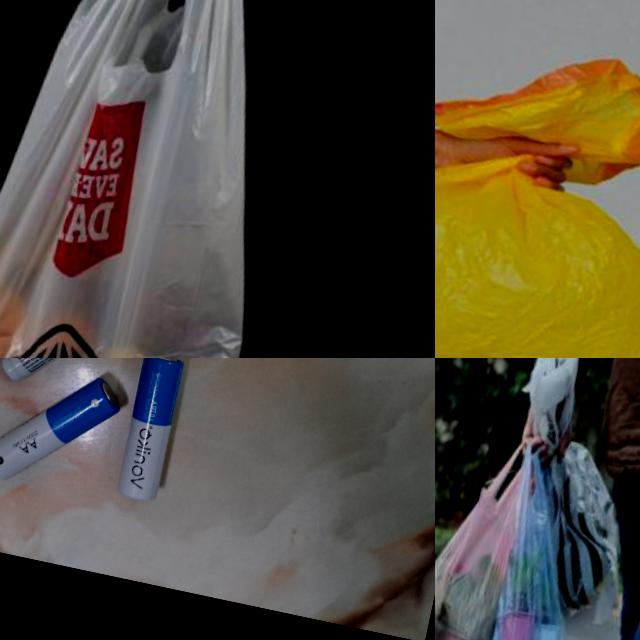bateria: (0, 358, 126, 500), (113, 358, 184, 502), (0, 358, 119, 398)
sacola plástica: (0, 0, 345, 358), (435, 0, 640, 358), (435, 358, 640, 640)
